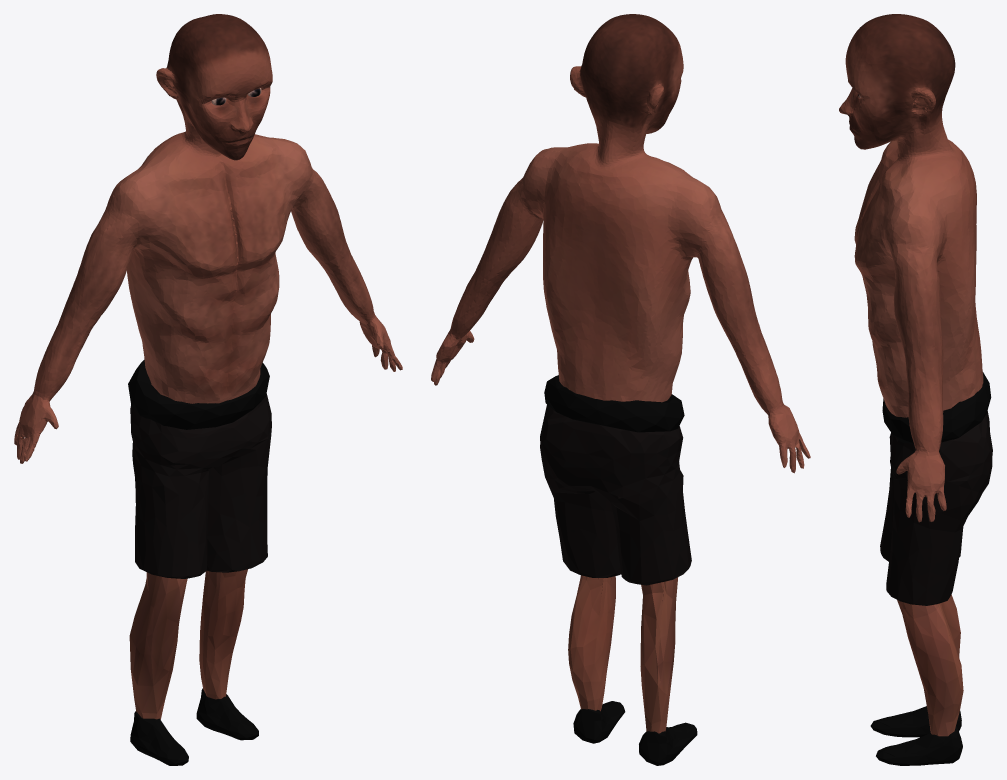
The model's file is postac.fbx.
The picture shows the model from 3 angles, left to right: view 1: azimuth 30°, elevation 25°; view 2: azimuth 150°, elevation 25°; view 3: azimuth 270°, elevation 25°; orthographic projection. The views are drawn at different scales.
Parts seen in each view (by area): view 1: Kula 1 split, Kula; view 2: Kula 1 split, Kula; view 3: Kula 1 split, Kula.
Part boxes in pixels (x1=…): Kula 1 split: x1=14, y1=113, x2=402, y2=765; Kula: x1=156, y1=14, x2=272, y2=160; Kula 1 split: x1=431, y1=112, x2=810, y2=765; Kula: x1=570, y1=14, x2=683, y2=134; Kula 1 split: x1=854, y1=106, x2=992, y2=765; Kula: x1=839, y1=14, x2=955, y2=149.
Size of the model in its own units: 313 by 577 by 109.
